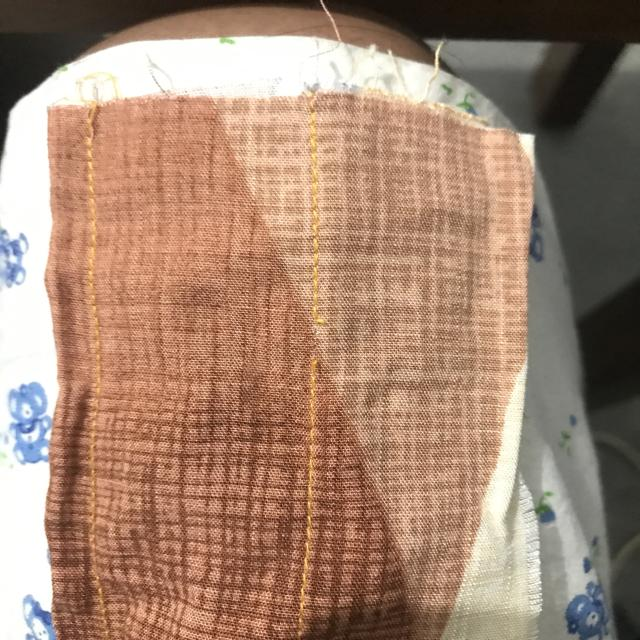good: (301, 171, 336, 296)
